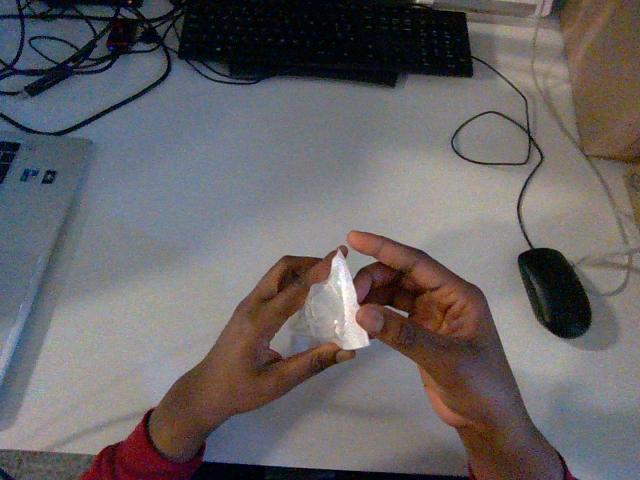syringe: (290, 250, 369, 349)
